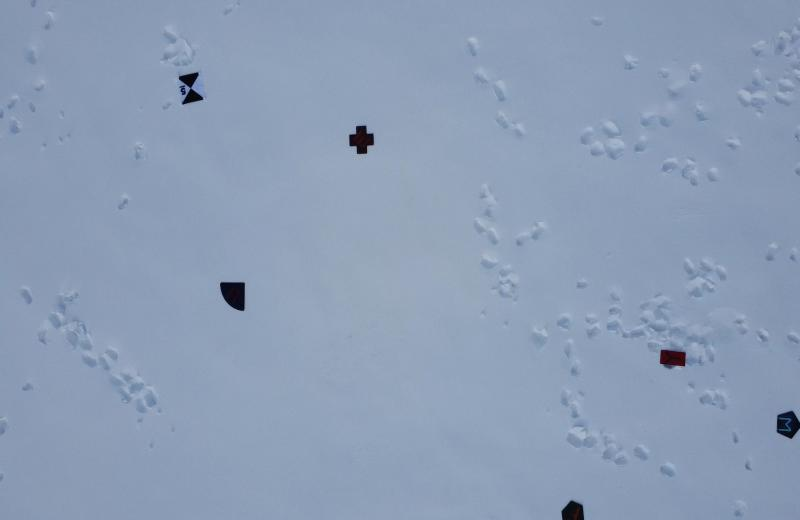Cross: (347, 125, 375, 160)
Hexagon: (560, 495, 589, 520)
Pentagon: (773, 403, 800, 447)
Quarter Circle: (216, 272, 249, 320)
Rectangle: (1, 1, 800, 520), (658, 341, 689, 376)
